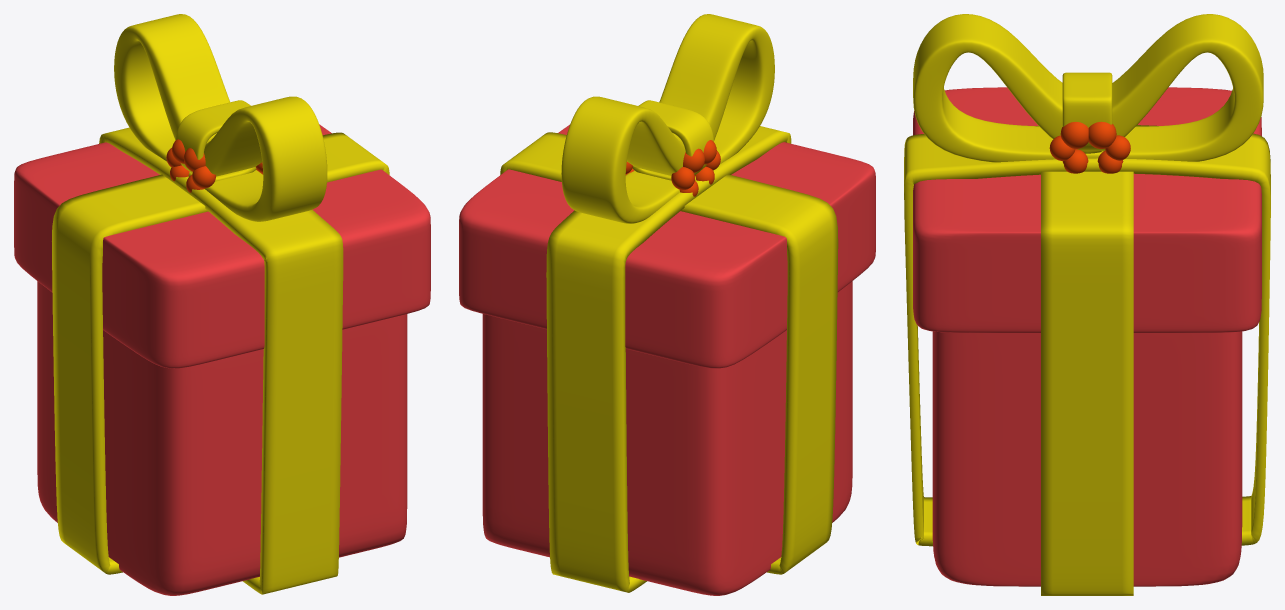
3 views of the same model, side by side, from view 1: azimuth 30°, elevation 25°; view 2: azimuth 150°, elevation 25°; view 3: azimuth 270°, elevation 25° (orthographic). The views are drawn at different scales.
Visible parts, largest first — view 1: Cube, Cube.001, Cube.002, Cube.003, Cube.004, Cube.005; view 2: Cube, Cube.001, Cube.002, Cube.003, Cube.004, Cube.005; view 3: Cube, Cube.001, Cube.003, Cube.004, Cube.002, Cube.005, Sphere.009, Sphere.008.
Part boxes in pixels (x1,y1,x2,y2): Cube: [37, 281, 407, 595]; Cube.001: [14, 124, 430, 368]; Cube.002: [99, 127, 343, 594]; Cube.003: [52, 132, 389, 574]; Cube.004: [114, 14, 327, 221]; Cube.005: [176, 100, 256, 181]; Cube: [482, 281, 852, 595]; Cube.001: [459, 124, 875, 368]; Cube.002: [546, 126, 791, 592]; Cube.003: [500, 132, 838, 574]; Cube.004: [561, 14, 774, 223]; Cube.005: [632, 100, 713, 180]; Cube: [932, 331, 1242, 586]; Cube.001: [913, 87, 1261, 332]; Cube.003: [1041, 171, 1133, 595]; Cube.004: [913, 14, 1263, 162]; Cube.002: [904, 125, 1270, 546]; Cube.005: [1062, 72, 1112, 151]; Sphere.009: [1088, 121, 1116, 148]; Sphere.008: [1060, 122, 1088, 148].
Bounding box in the file's own units: 2.37 × 3.56 × 2.37.
